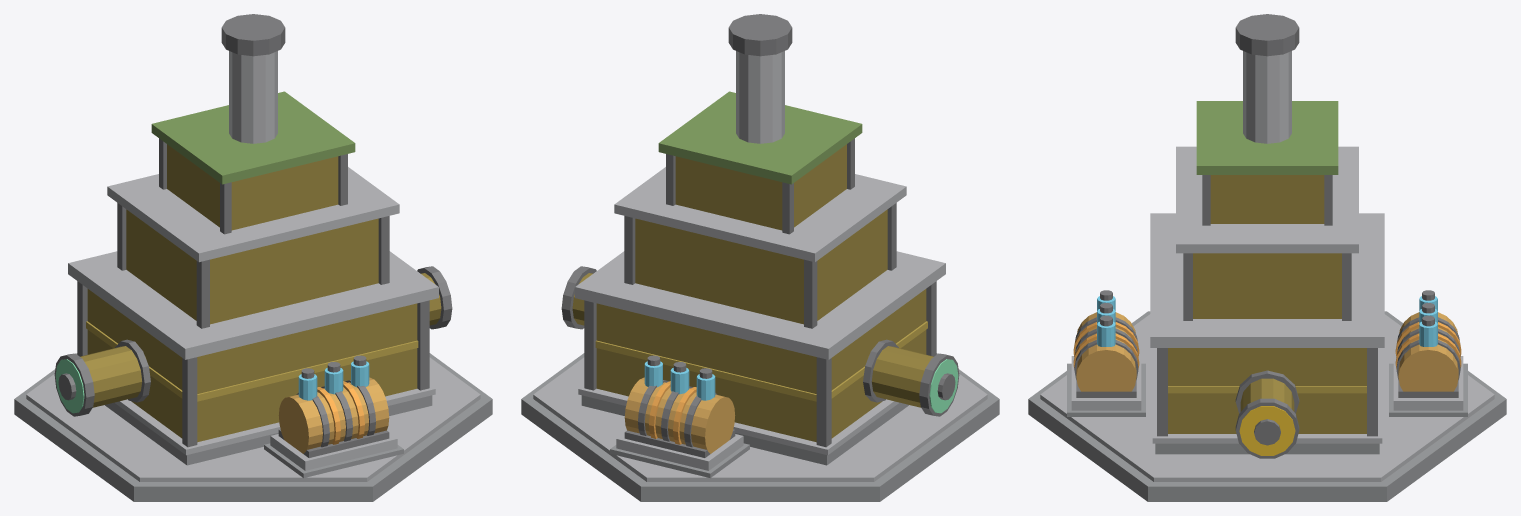
File: battery_factory_s2_ruin.glb
The picture shows the model from 3 angles, left to right: view 1: azimuth 30°, elevation 25°; view 2: azimuth 150°, elevation 25°; view 3: azimuth 270°, elevation 25°; orthographic projection.
Visible parts, largest first — view 1: B_Floor1, B_Floor2, B_FoundRim, B_F1Cornice, B_Foundation, B_F2Cornice, B_Floor3Roof, B_Floor3, B_Chimney, B_TF_South_Coil, B_PipeStubW, B_PlinthCap (+17 smaller); view 2: B_Floor1, B_Floor2, B_FoundRim, B_F1Cornice, B_Foundation, B_F2Cornice, B_Floor3Roof, B_Floor3, B_Chimney, B_TF_North_Coil, B_PipeStubW, B_PlinthCap (+17 smaller); view 3: B_FoundRim, B_F1Cornice, B_Floor1, B_Foundation, B_Floor2, B_F2Cornice, B_Floor3Roof, B_Floor3, B_Chimney, B_TF_South_Coil, B_TF_North_Coil, B_PlinthCap (+16 smaller).
Boxes of the visible parts, x1,y1,x2,y2 form: B_Floor1: [87, 289, 417, 442]; B_Floor2: [126, 209, 378, 324]; B_FoundRim: [26, 357, 480, 481]; B_F1Cornice: [68, 251, 438, 359]; B_Foundation: [14, 353, 492, 501]; B_F2Cornice: [107, 167, 399, 262]; B_Floor3Roof: [151, 91, 355, 184]; B_Floor3: [167, 144, 338, 230]; B_Chimney: [229, 51, 277, 143]; B_TF_South_Coil: [278, 377, 389, 453]; B_PipeStubW: [80, 346, 145, 407]; B_PlinthCap: [114, 385, 435, 455]; B_Floor1: [596, 289, 926, 442]; B_Floor2: [635, 209, 887, 324]; B_FoundRim: [533, 357, 987, 481]; B_F1Cornice: [575, 251, 945, 359]; B_Foundation: [521, 353, 999, 501]; B_F2Cornice: [614, 167, 906, 262]; B_Floor3Roof: [658, 91, 862, 184]; B_Floor3: [675, 144, 846, 230]; B_Chimney: [736, 51, 784, 143]; B_TF_North_Coil: [624, 377, 735, 453]; B_PipeStubW: [868, 346, 933, 407]; B_PlinthCap: [578, 385, 899, 455]; B_FoundRim: [1040, 314, 1494, 481]; B_F1Cornice: [1150, 213, 1384, 347]; B_Floor1: [1168, 348, 1366, 433]; B_Foundation: [1028, 311, 1506, 501]; B_Floor2: [1193, 253, 1341, 318]; B_F2Cornice: [1176, 146, 1358, 253]; B_Floor3Roof: [1196, 101, 1338, 174]; B_Floor3: [1210, 175, 1324, 223]; B_Chimney: [1243, 51, 1291, 143]; B_TF_South_Coil: [1076, 312, 1136, 391]; B_TF_North_Coil: [1398, 312, 1458, 391]; B_PlinthCap: [1152, 348, 1382, 443].
Size of the model in its own units: 1.78 by 1.75 by 1.96.
